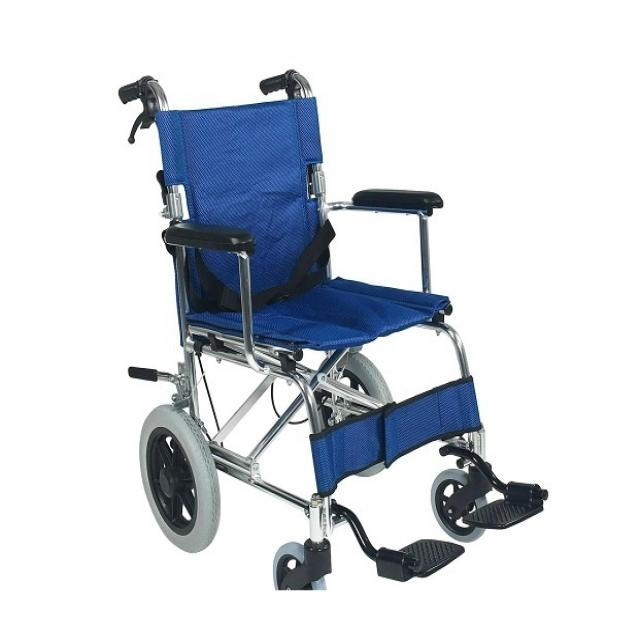wheelchair: (112, 52, 564, 603)
